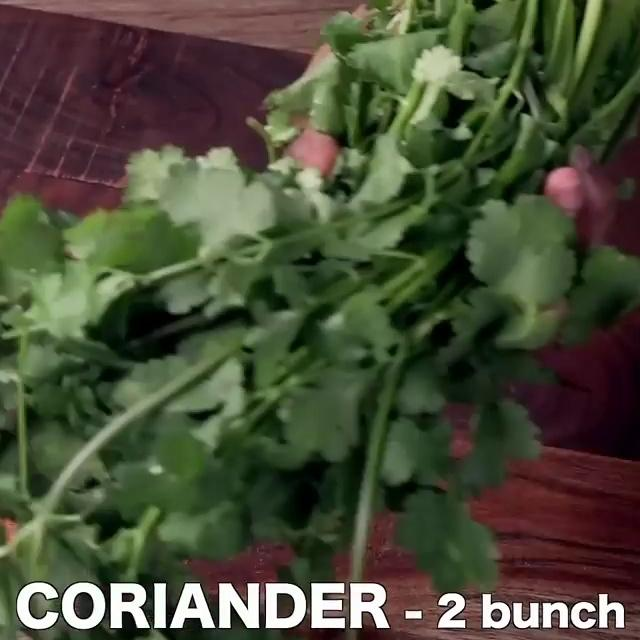cilantro: (0, 224, 476, 496)
